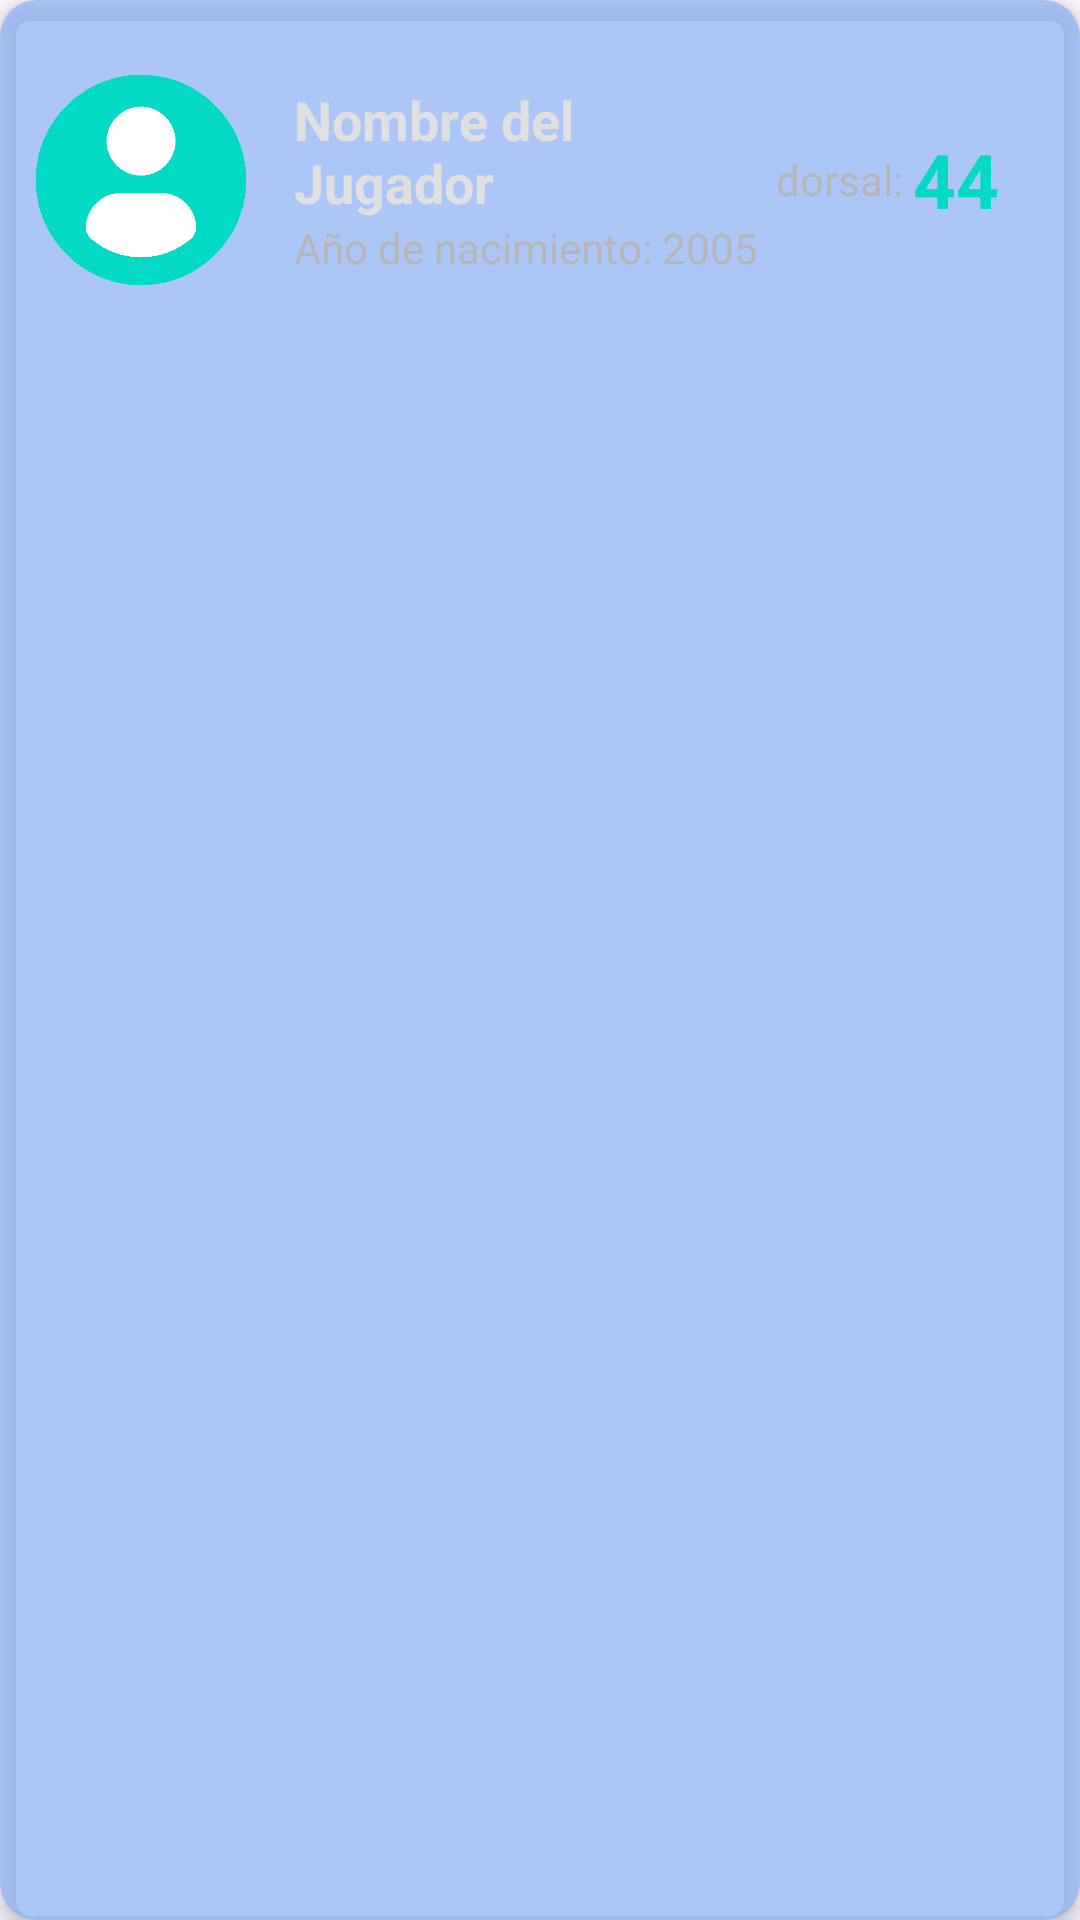

Icons on this 1080px x 1920px Android screen, each with the point to tap as (x,y):
Foto del jugador: (141,180)
